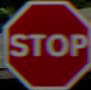Stop: (6, 10, 87, 76)
